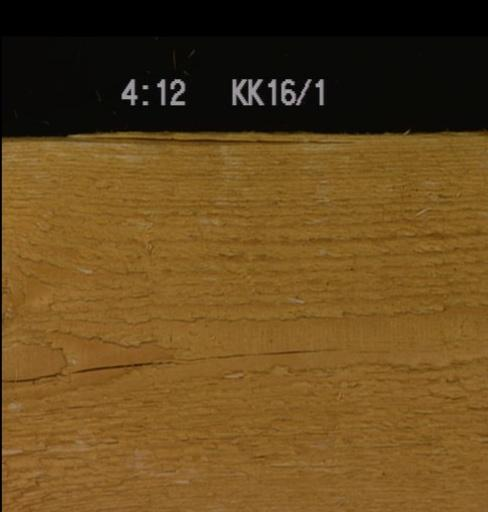split: (1, 346, 342, 383), (1, 130, 352, 145)
